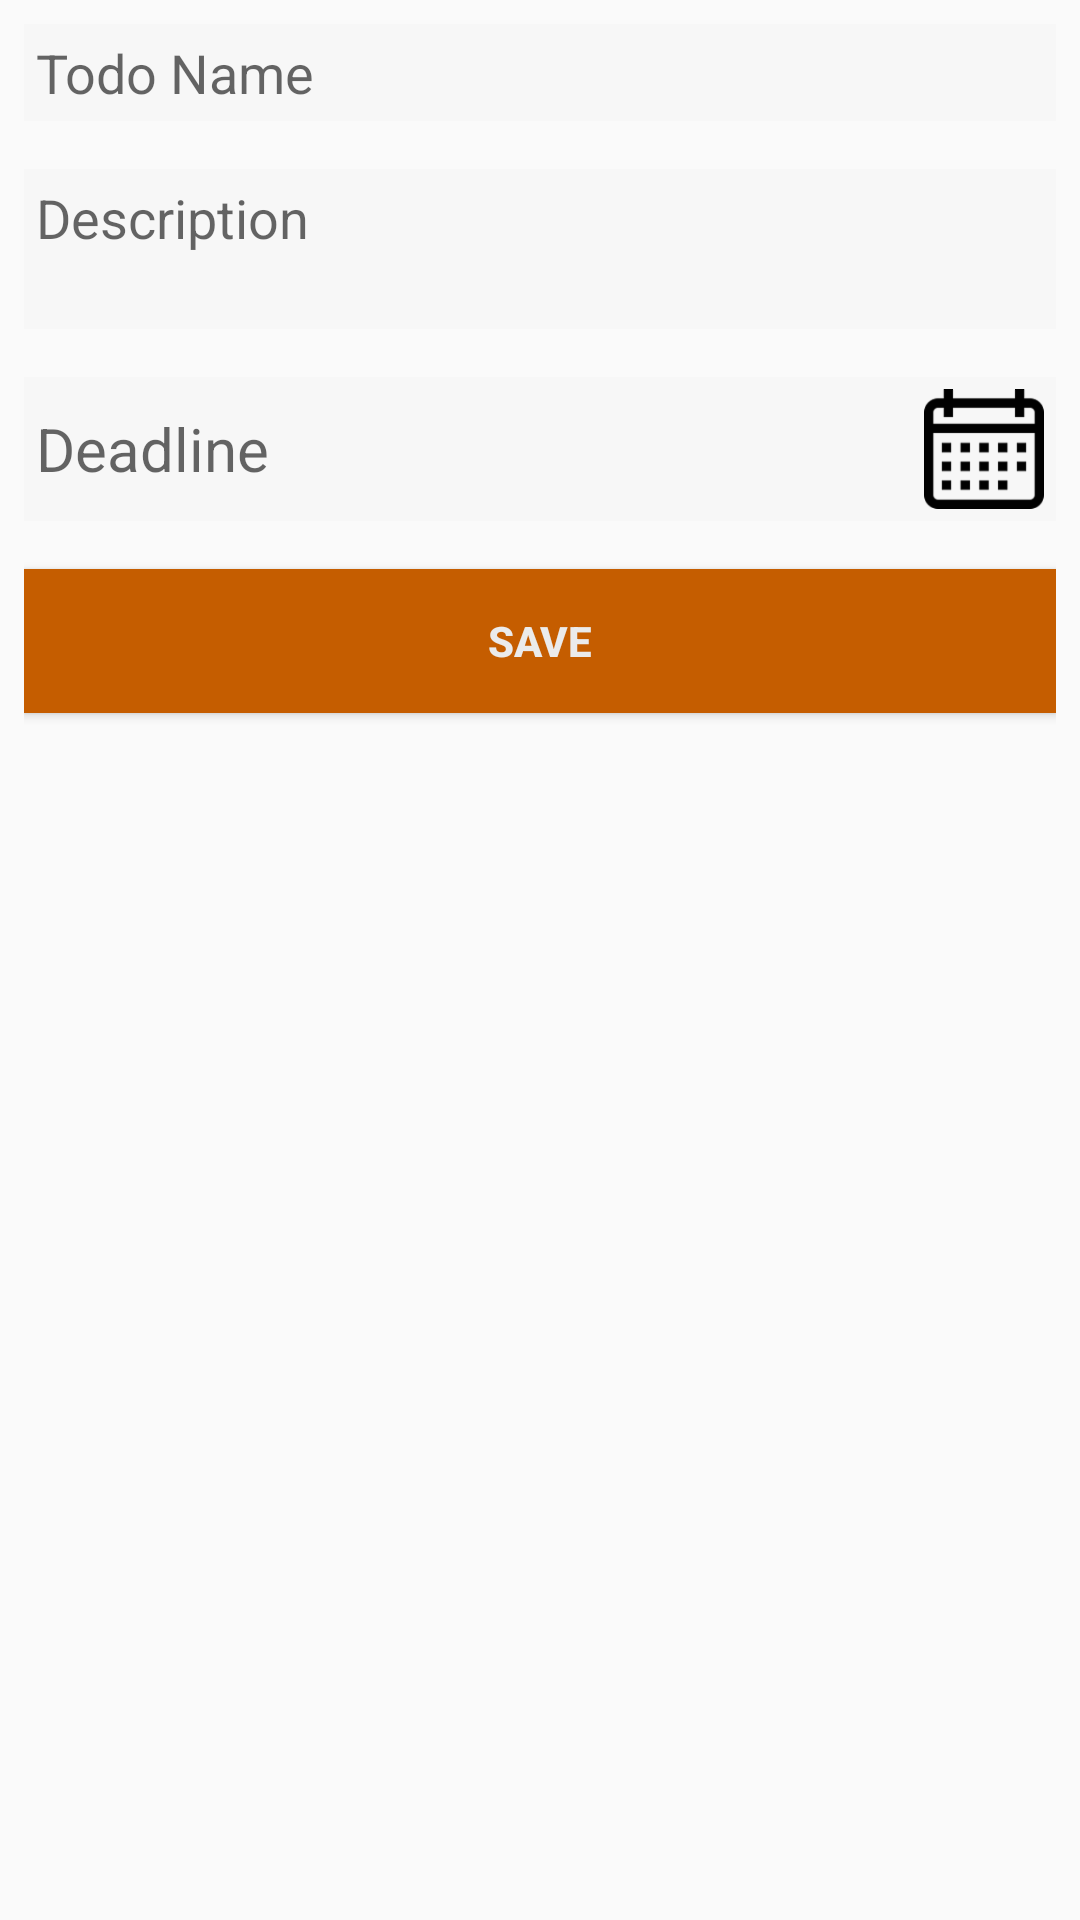

Where to tap for icons on this 1080x1920 app screen, as point (x, y):
calendar: point (984, 449)
